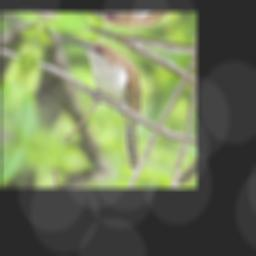Cuckoo: (38, 34, 174, 172)
